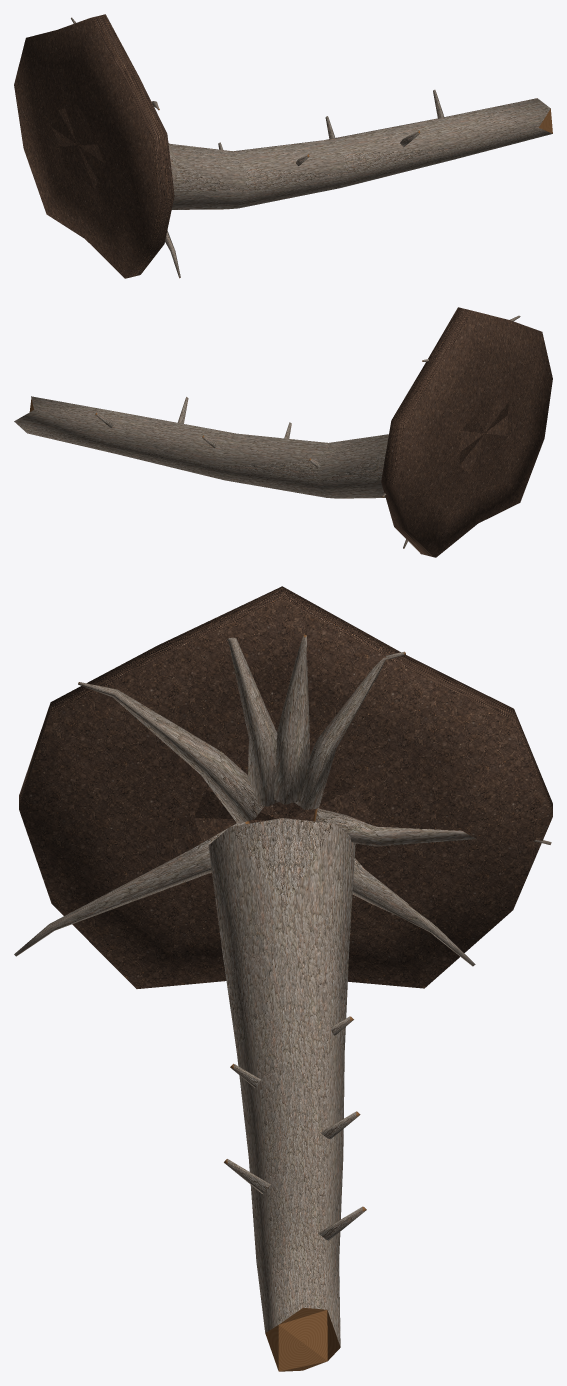
File: SS_WindthrowBase_Fresh_01_LOD2.fbx
3 views of the same model, one above another, from view 1: azimuth 30°, elevation 25°; view 2: azimuth 150°, elevation 25°; view 3: azimuth 270°, elevation 25° (orthographic). The views are drawn at different scales.
Parts seen in each view (by area): view 1: SS_WindthrowBase_Fresh_01_LOD2_Structure; view 2: SS_WindthrowBase_Fresh_01_LOD2_Structure; view 3: SS_WindthrowBase_Fresh_01_LOD2_Structure.
Boxes of the visible parts, x1,y1,x2,y2 form: SS_WindthrowBase_Fresh_01_LOD2_Structure: [14, 14, 552, 278]; SS_WindthrowBase_Fresh_01_LOD2_Structure: [14, 307, 552, 557]; SS_WindthrowBase_Fresh_01_LOD2_Structure: [14, 586, 552, 1371].
Bounding box in the file's own units: 554 × 260 × 313.
